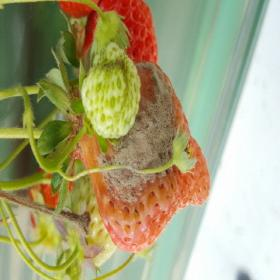Gray Mold: (80, 61, 191, 236)
